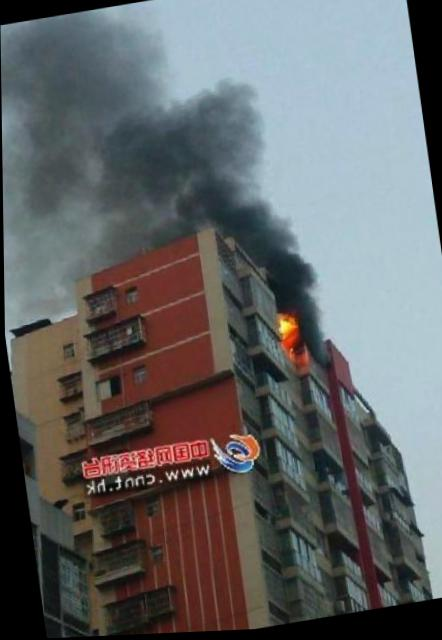fire: (279, 311, 301, 349), (291, 351, 309, 369)
smoke: (0, 0, 272, 253)
